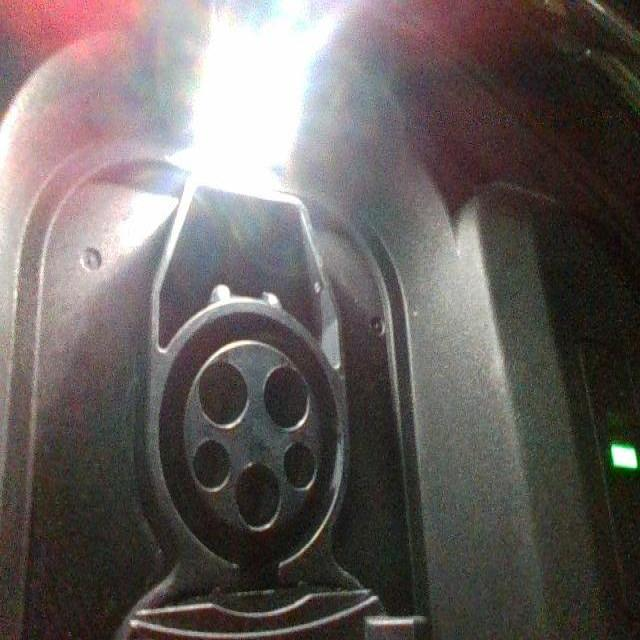Type 1: (175, 323, 342, 564)
